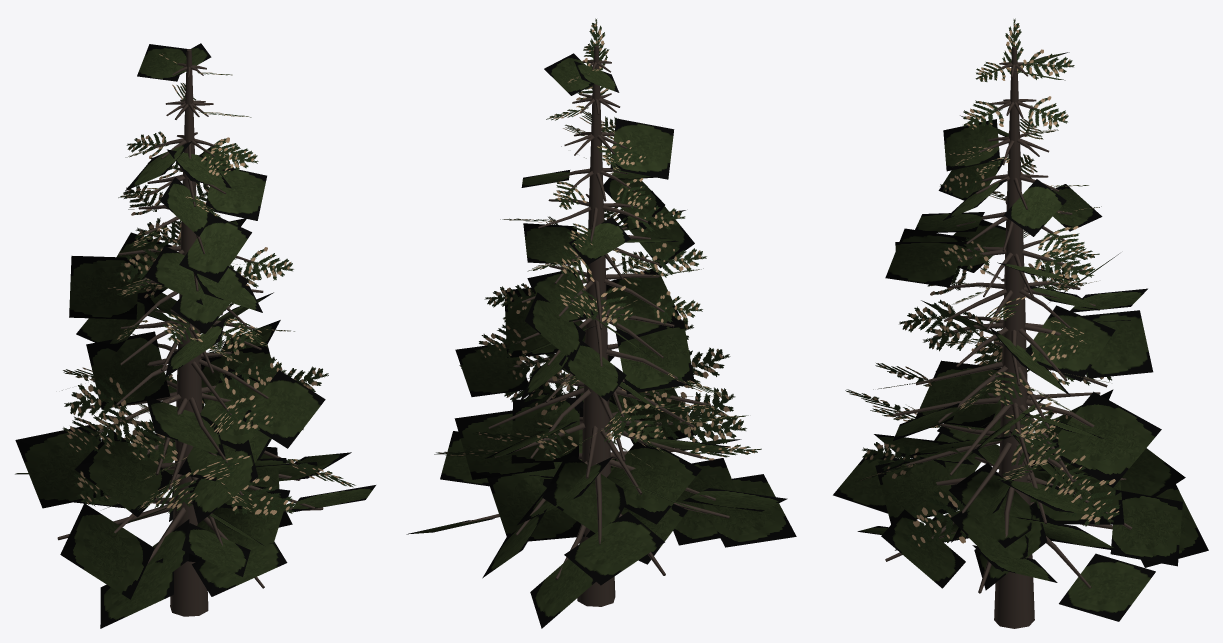
The model's file is snow_pine_1_burnt2.glb.
The picture shows the model from 3 angles, left to right: view 1: azimuth 30°, elevation 25°; view 2: azimuth 150°, elevation 25°; view 3: azimuth 270°, elevation 25°; orthographic projection. The views are drawn at different scales.
Visible parts, largest first — view 1: snow_pine_1_burnt2; view 2: snow_pine_1_burnt2; view 3: snow_pine_1_burnt2.
Boxes of the visible parts, box(x1,y1,x2,y2) form: snow_pine_1_burnt2: box(15, 43, 375, 628); snow_pine_1_burnt2: box(406, 18, 796, 628); snow_pine_1_burnt2: box(833, 18, 1208, 628).
Bounding box in the file's own units: 5.86 × 10.43 × 6.02.
Materials: 3 (2 with a texture image).
